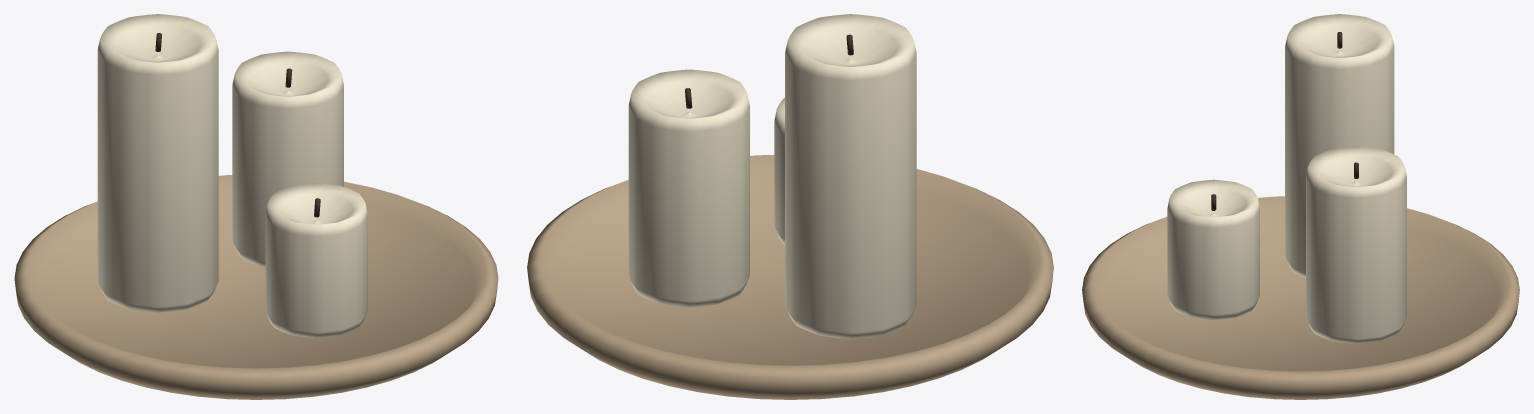
File: candle_tray.glb
3 renders of one model, left to right at view 1: azimuth 30°, elevation 25°; view 2: azimuth 150°, elevation 25°; view 3: azimuth 270°, elevation 25°, orthographic. The views are drawn at different scales.
Visible parts, largest first — view 1: candle_tray__wax, candle_tray__body; view 2: candle_tray__wax, candle_tray__body; view 3: candle_tray__wax, candle_tray__body.
Part boxes in pixels (x1,y1,x2,y2): candle_tray__wax: (97, 14, 367, 338); candle_tray__body: (14, 175, 498, 399); candle_tray__wax: (628, 14, 916, 338); candle_tray__body: (527, 155, 1053, 399); candle_tray__wax: (1167, 14, 1406, 343); candle_tray__body: (1082, 196, 1519, 399).
Size of the model in its own units: 0.316 by 0.1981 by 0.316.
